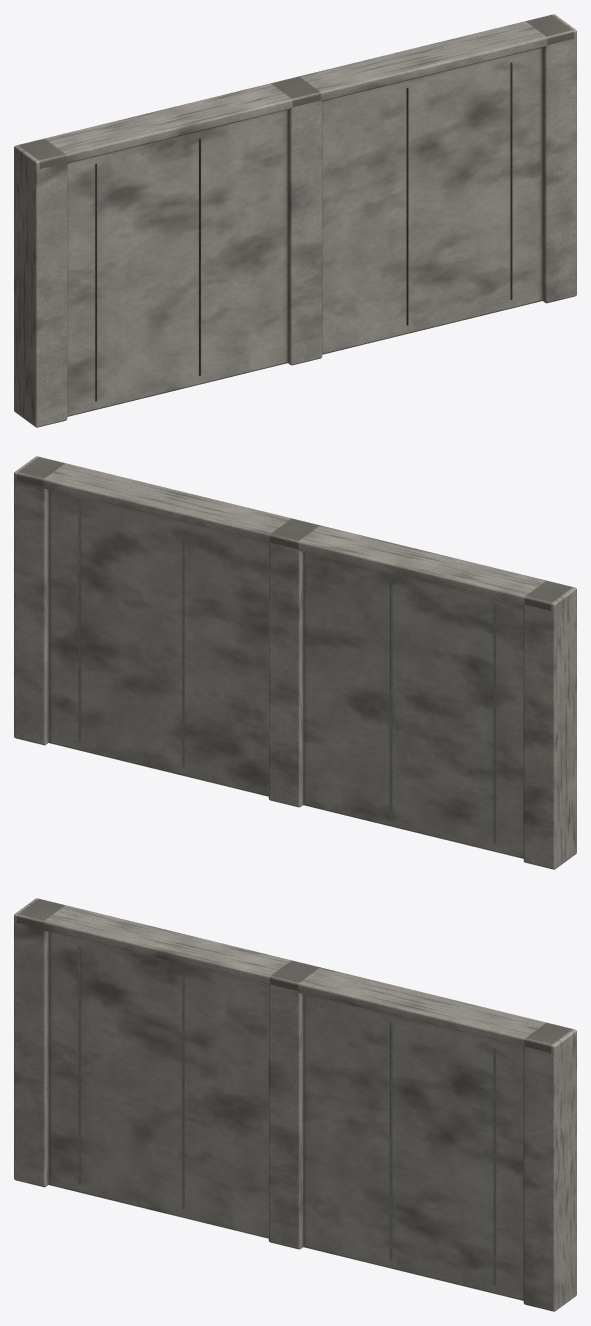
The model's file is skate_mur.glb.
3 views of the same model, one above another, from view 1: azimuth 30°, elevation 25°; view 2: azimuth 150°, elevation 25°; view 3: azimuth 330°, elevation 25° (orthographic).
Parts seen in each view (by area): view 1: Mur; view 2: Mur; view 3: Mur.
Boxes of the visible parts, left/top/right/bottom form: Mur: left=14, top=14, right=576, bottom=427; Mur: left=14, top=456, right=576, bottom=869; Mur: left=14, top=898, right=576, bottom=1311.
Size of the model in its own units: 5.74 by 2.7 by 0.42.
1 material, 1 textured.
